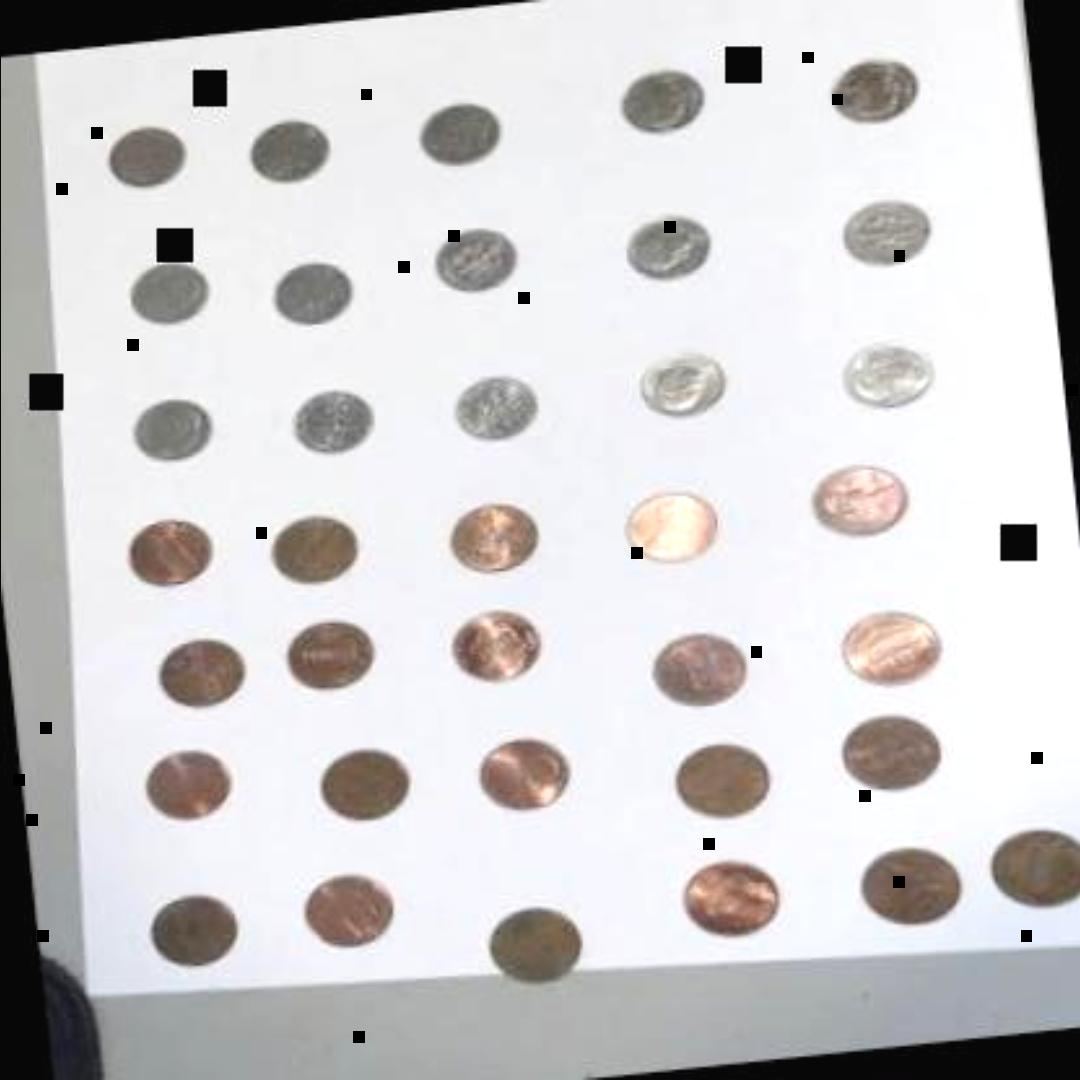Dime: (831, 187, 947, 275), (406, 92, 520, 170), (828, 44, 929, 132), (834, 330, 940, 412), (622, 202, 722, 286), (236, 107, 342, 184), (264, 246, 366, 326), (425, 215, 523, 298), (444, 366, 548, 442), (280, 378, 381, 456), (617, 57, 713, 137), (634, 342, 734, 418), (122, 386, 218, 462), (124, 248, 214, 328), (105, 115, 185, 190)
Penny: (856, 835, 972, 933), (669, 728, 785, 821), (291, 858, 407, 951), (670, 848, 786, 940), (479, 894, 595, 986), (801, 451, 917, 541), (834, 703, 950, 793), (139, 881, 255, 971), (468, 724, 576, 816), (260, 499, 370, 587), (436, 487, 545, 575), (642, 618, 750, 706), (138, 738, 248, 822), (838, 600, 948, 683), (312, 736, 414, 824), (446, 601, 554, 684), (279, 608, 382, 691), (620, 478, 724, 560), (992, 813, 1080, 906), (154, 629, 254, 709), (123, 506, 219, 586)
